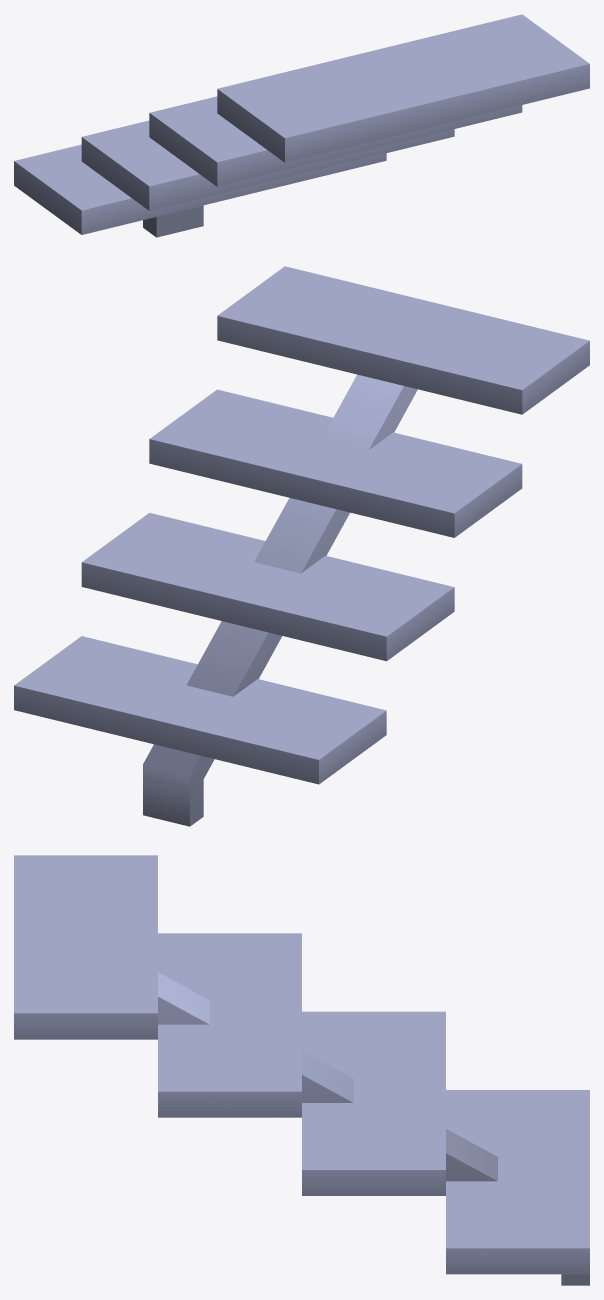
The model's file is kenney-building-stairs-center-short.glb.
The picture shows the model from 3 angles, top to bottom: view 1: azimuth 30°, elevation 25°; view 2: azimuth 150°, elevation 25°; view 3: azimuth 270°, elevation 25°; orthographic projection. The views are drawn at different scales.
Visible parts, largest first — view 1: stairs-center-short; view 2: stairs-center-short; view 3: stairs-center-short.
Boxes of the visible parts, <box> form: stairs-center-short: <box>14,14,589,237</box>; stairs-center-short: <box>14,266,589,826</box>; stairs-center-short: <box>14,855,589,1285</box>.
Size of the model in its own units: 1.3 by 1.3 by 2.
Materials: 1 (1 with a texture image).
